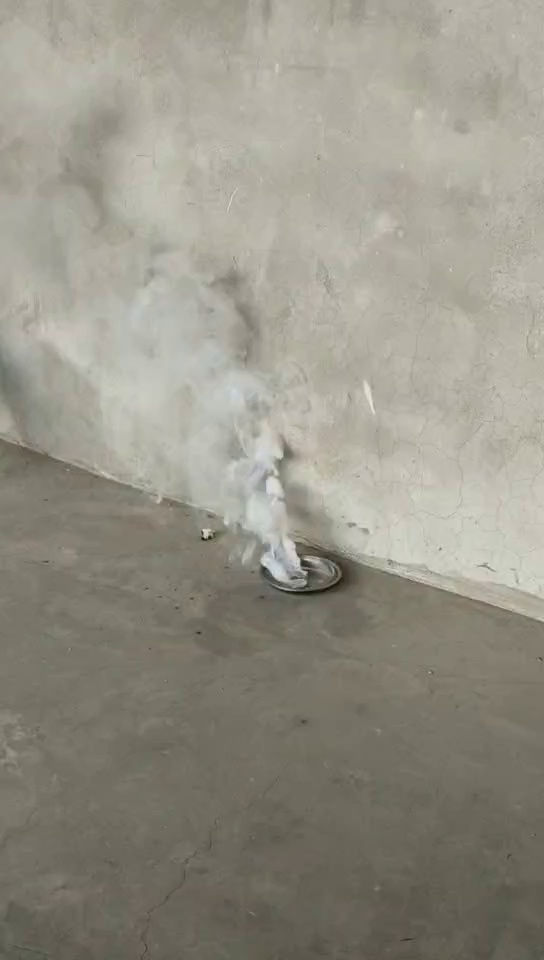yanwu: (116, 271, 297, 563)
